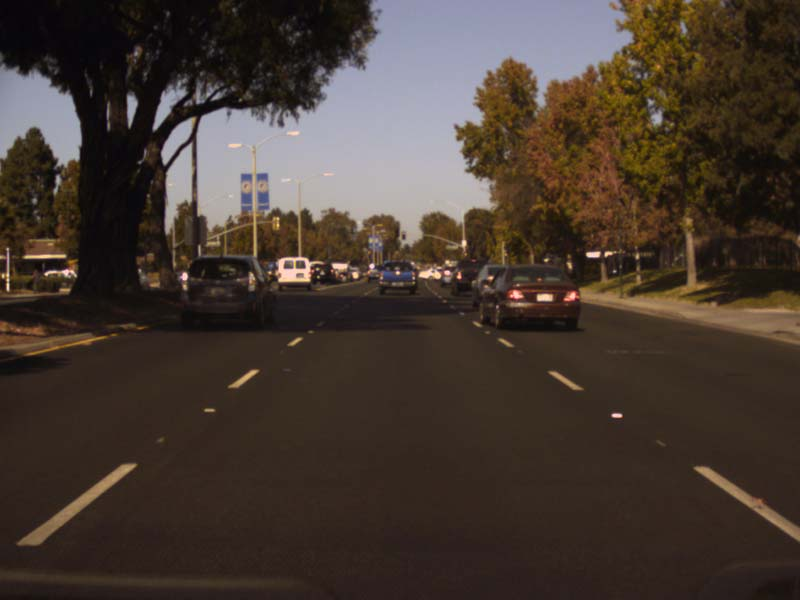Red: (401, 231, 405, 239)
